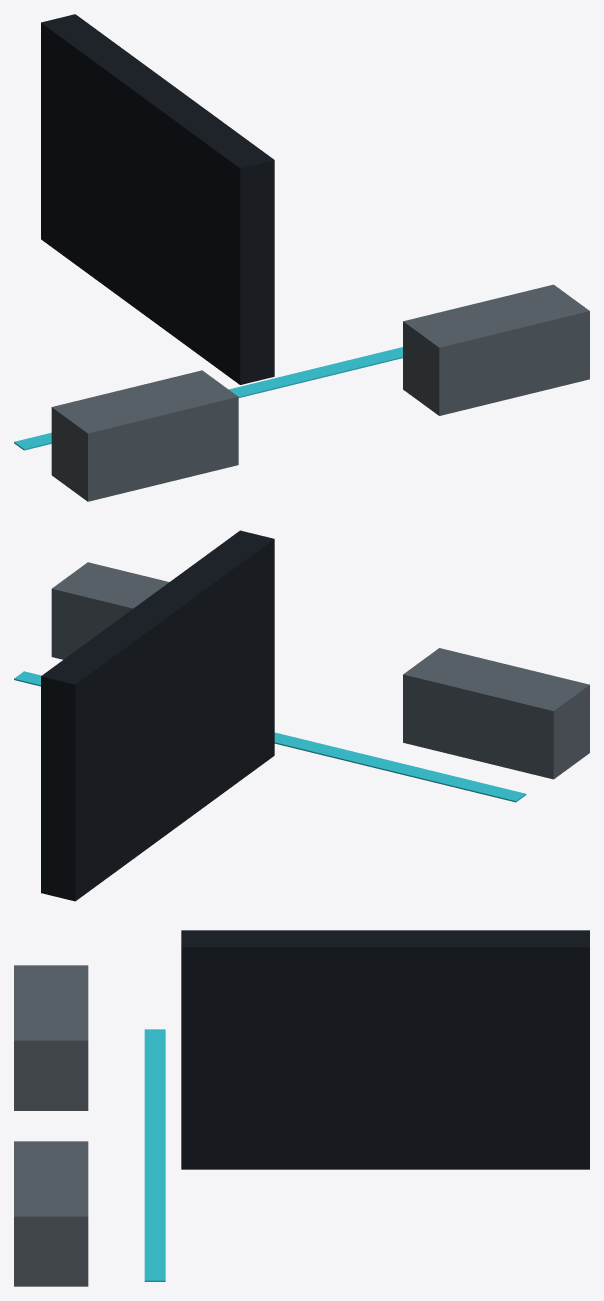
The model's file is module.t_junction_check.glb.
3 renders of one model, top to bottom at view 1: azimuth 30°, elevation 25°; view 2: azimuth 150°, elevation 25°; view 3: azimuth 270°, elevation 25°, orthographic. The views are drawn at different scales.
Visible parts, largest first — view 1: center_cheek, left_cover, right_cover, route_split; view 2: center_cheek, left_cover, right_cover, route_split; view 3: center_cheek, left_cover, right_cover, route_split.
Boxes of the visible parts, left/top/right/bottom form: center_cheek: left=41, top=14, right=274, bottom=384; left_cover: left=51, top=370, right=238, bottom=501; right_cover: left=403, top=284, right=589, bottom=415; route_split: left=14, top=347, right=402, bottom=450; center_cheek: left=41, top=530, right=274, bottom=901; left_cover: left=403, top=648, right=589, bottom=779; right_cover: left=51, top=562, right=169, bottom=659; route_split: left=14, top=671, right=526, bottom=802; center_cheek: left=181, top=930, right=589, bottom=1169; left_cover: left=14, top=965, right=88, bottom=1110; right_cover: left=14, top=1141, right=88, bottom=1286; route_split: left=144, top=1029, right=165, bottom=1281.
Bounding box in the file's own units: 8 × 3.3 × 7.75.
